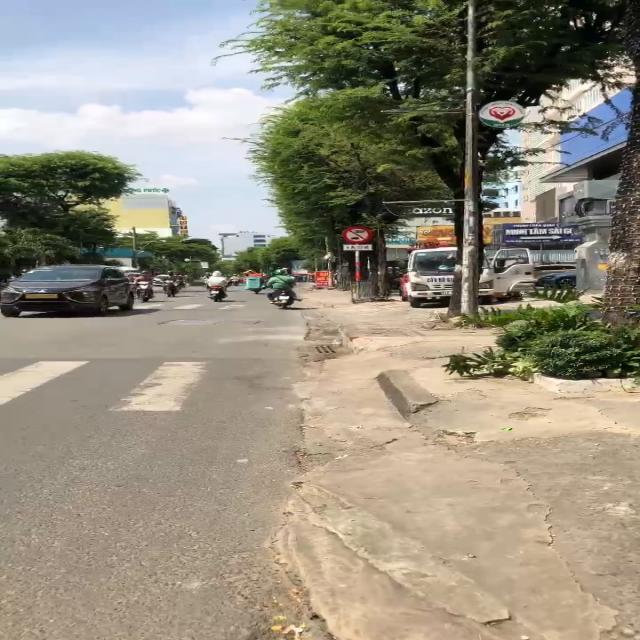Bien bao cam xe oto khach va xe oto tai: (338, 226, 373, 243)
